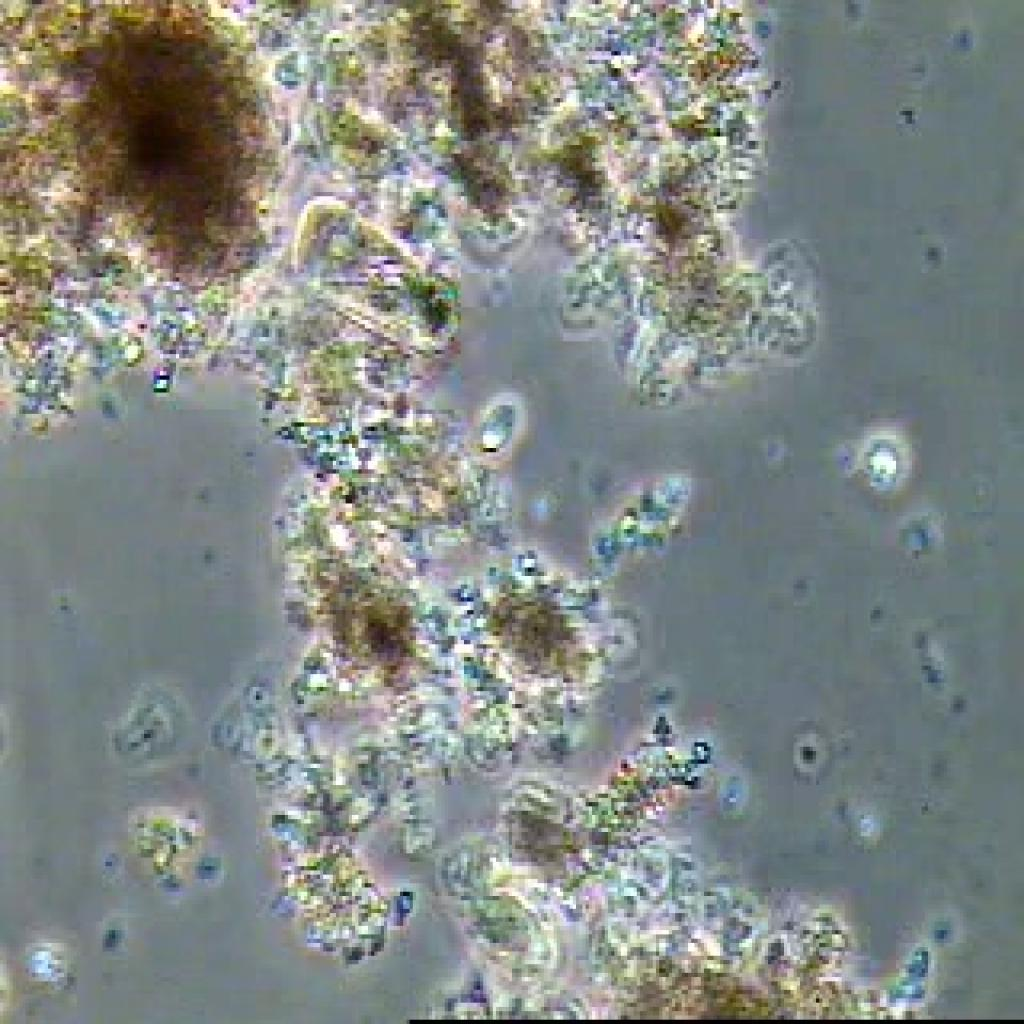Paramecium: (288, 188, 470, 375)
